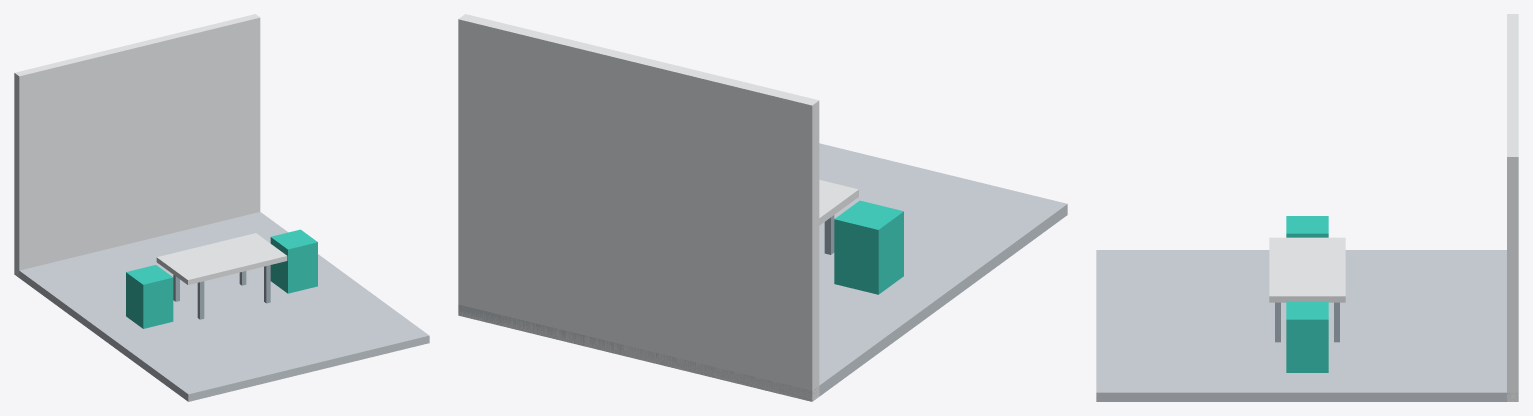
3 renders of one model, left to right at view 1: azimuth 30°, elevation 25°; view 2: azimuth 150°, elevation 25°; view 3: azimuth 270°, elevation 25°, orthographic. The views are drawn at different scales.
Parts seen in each view (by area): view 1: Exhibition Booth Concept; view 2: Exhibition Booth Concept; view 3: Exhibition Booth Concept.
Part boxes in pixels (x1,y1,x2,y2): Exhibition Booth Concept: (14,14,429,401); Exhibition Booth Concept: (458,14,1067,401); Exhibition Booth Concept: (1096,14,1518,401).
Bounding box in the file's own units: 4 × 3.2 × 5.
